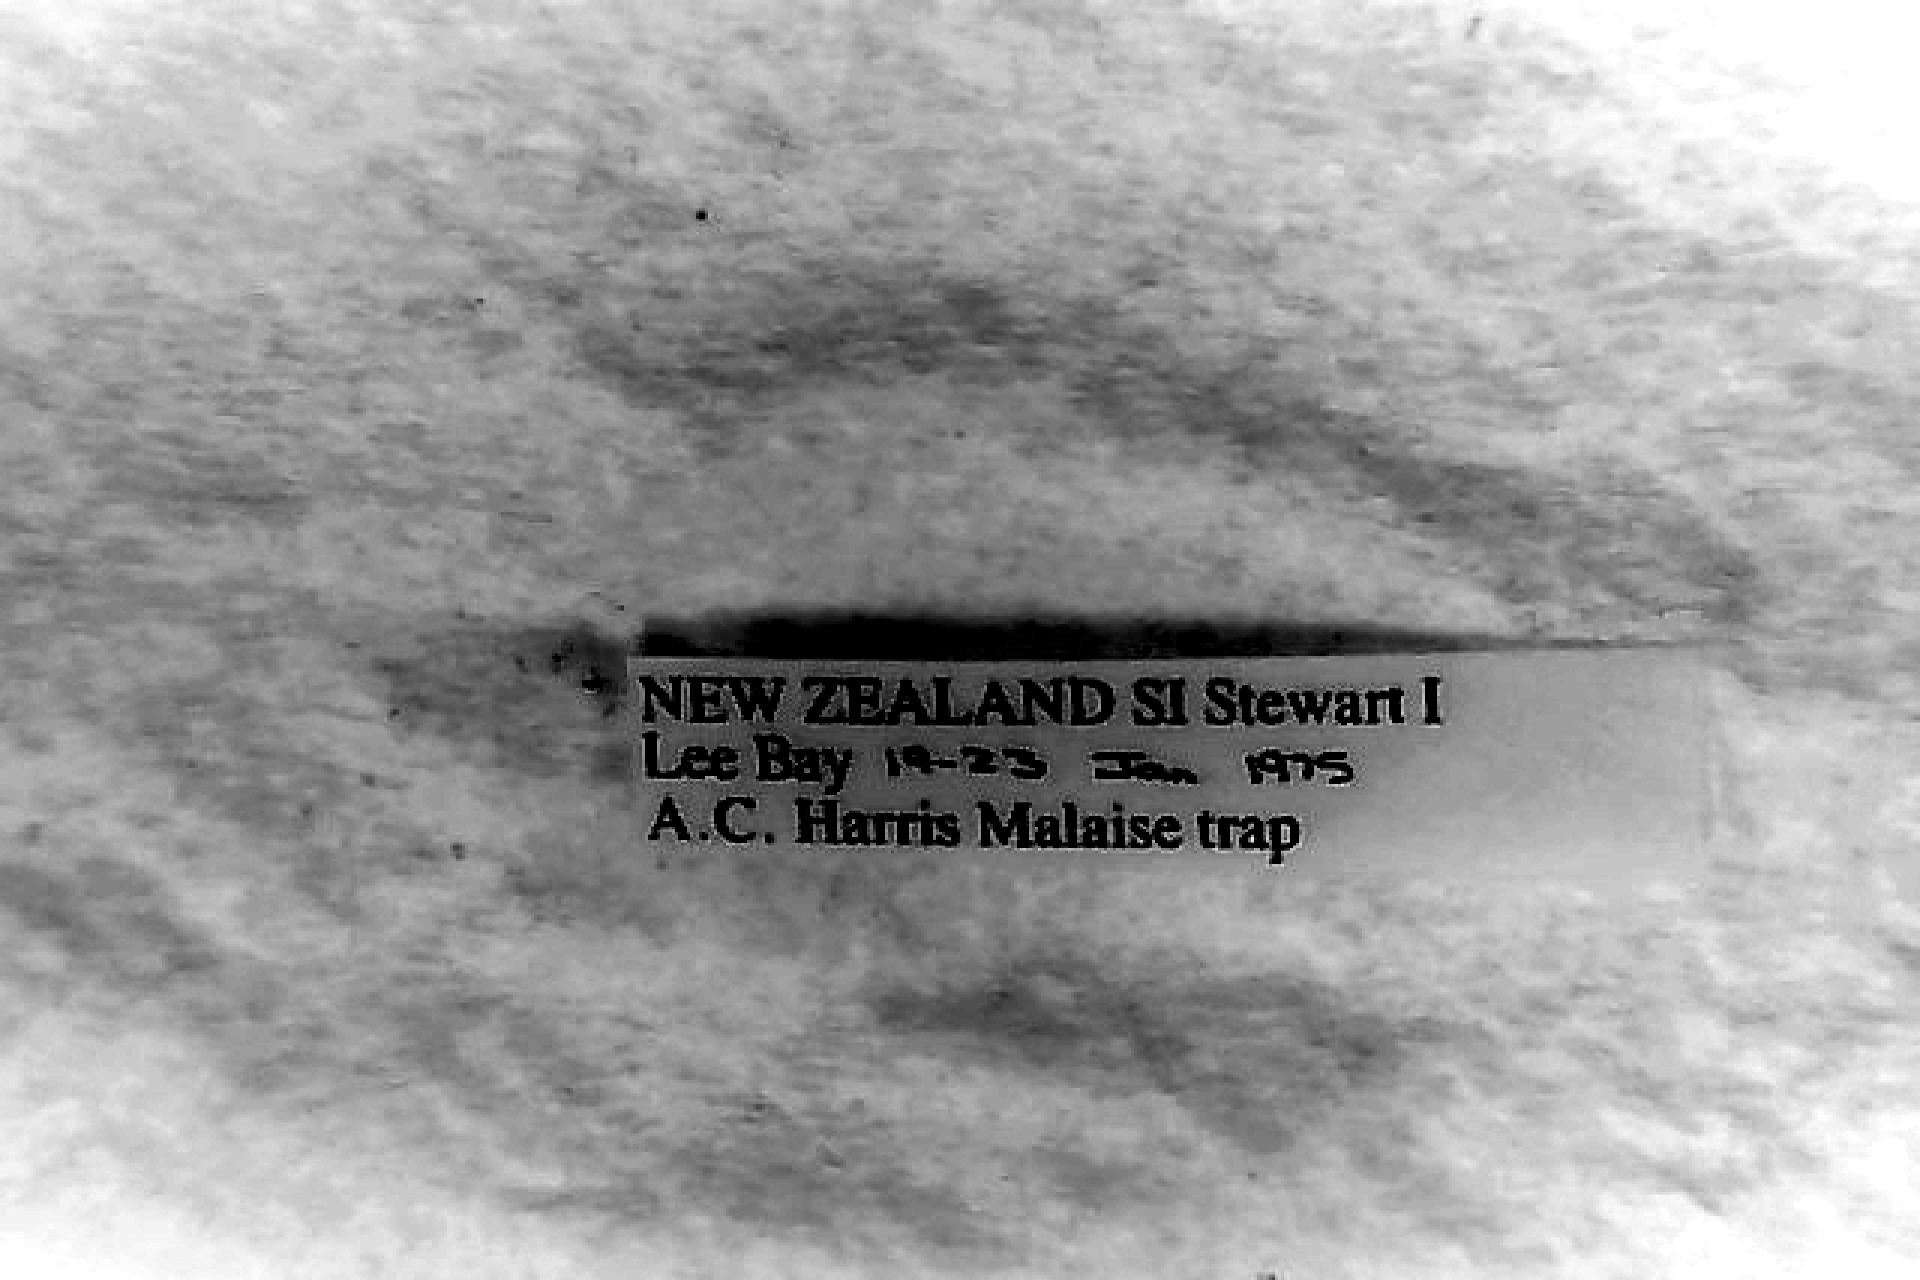mixed_label: (630, 653, 1706, 871)
